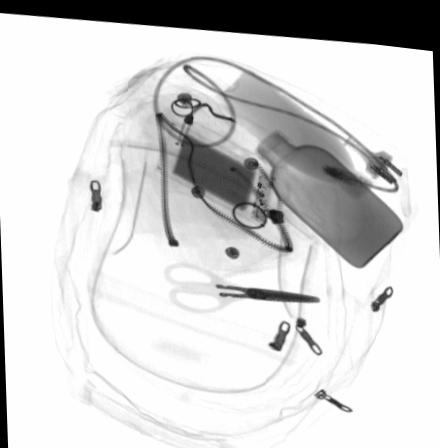Powerbank: (155, 114, 276, 220)
Scissors: (161, 254, 323, 307)
